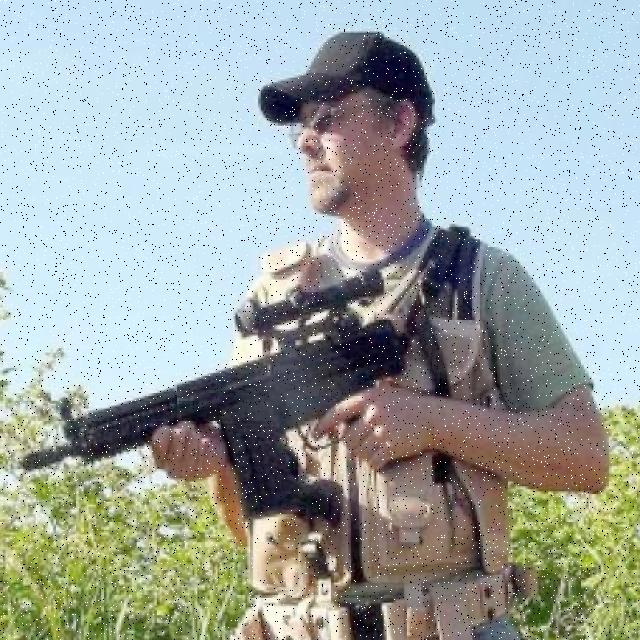Rifle: (19, 268, 423, 521)
